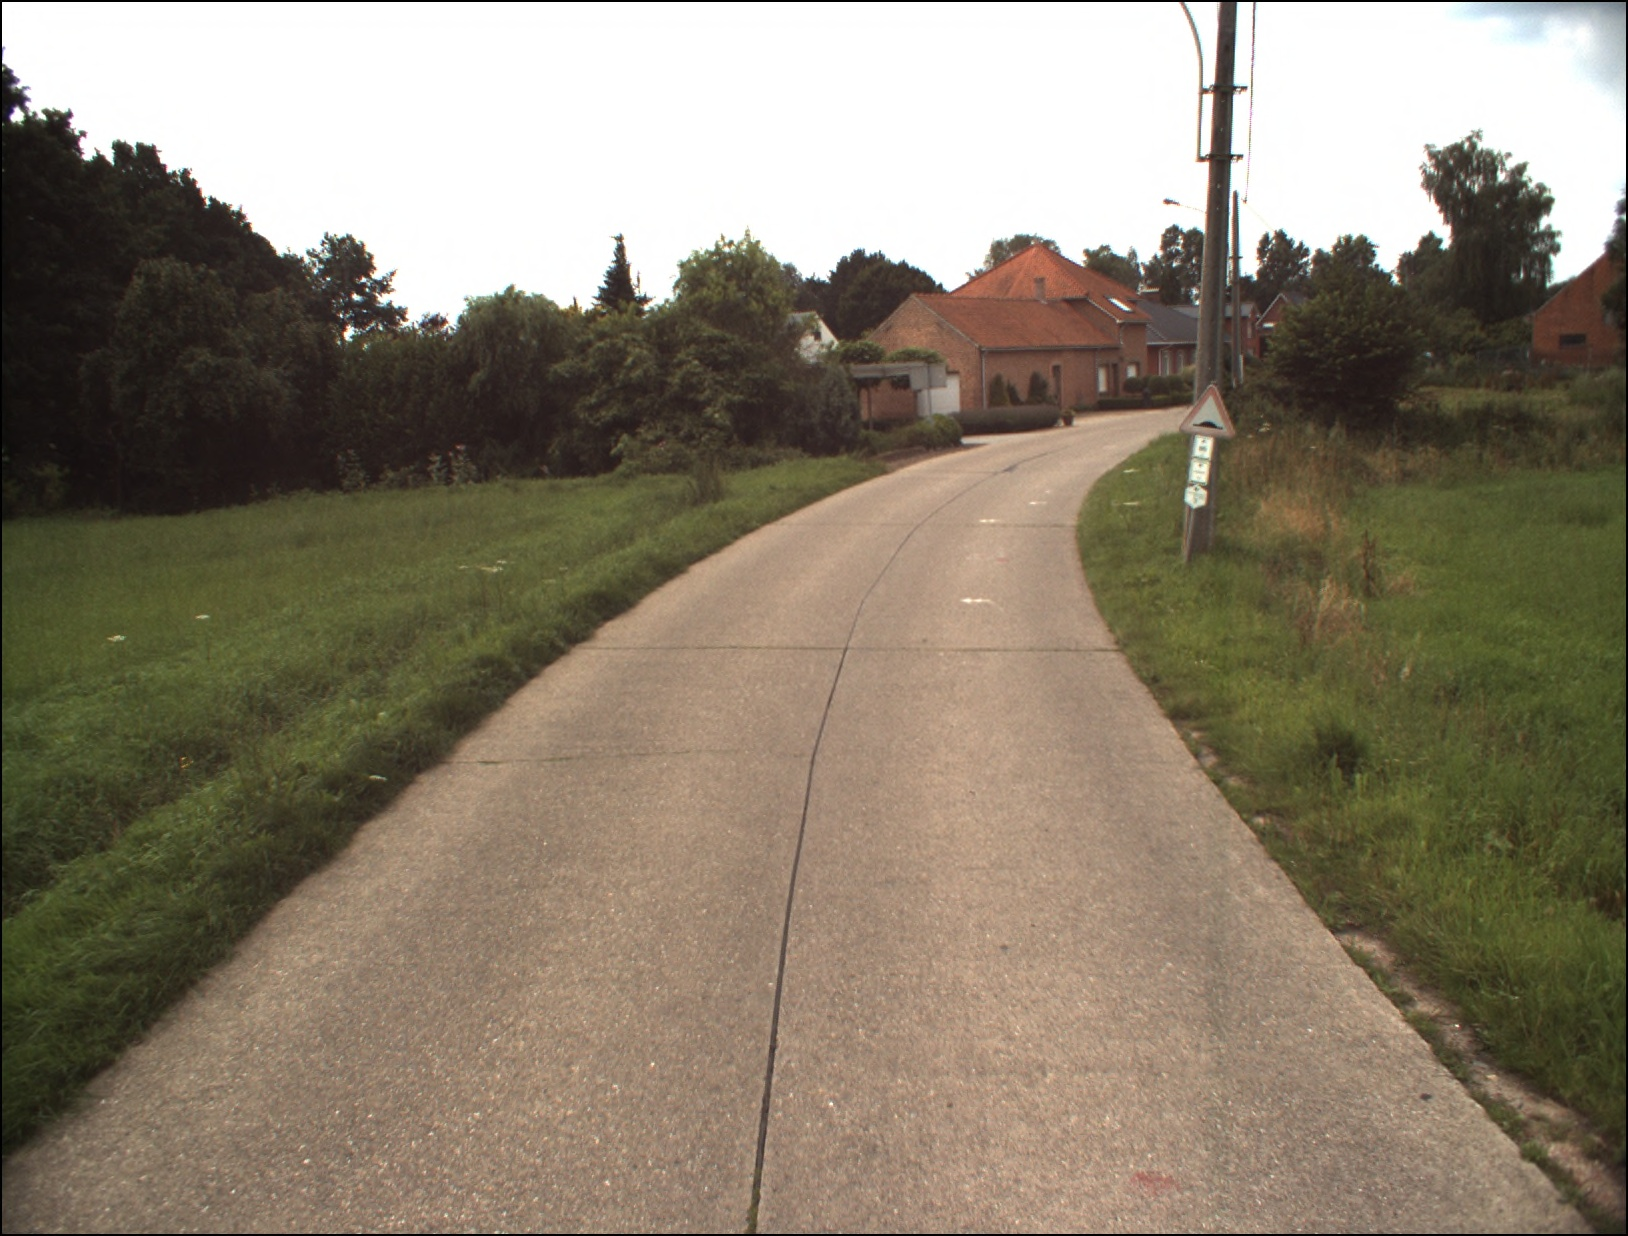speedbump: (1178, 378, 1239, 441)
